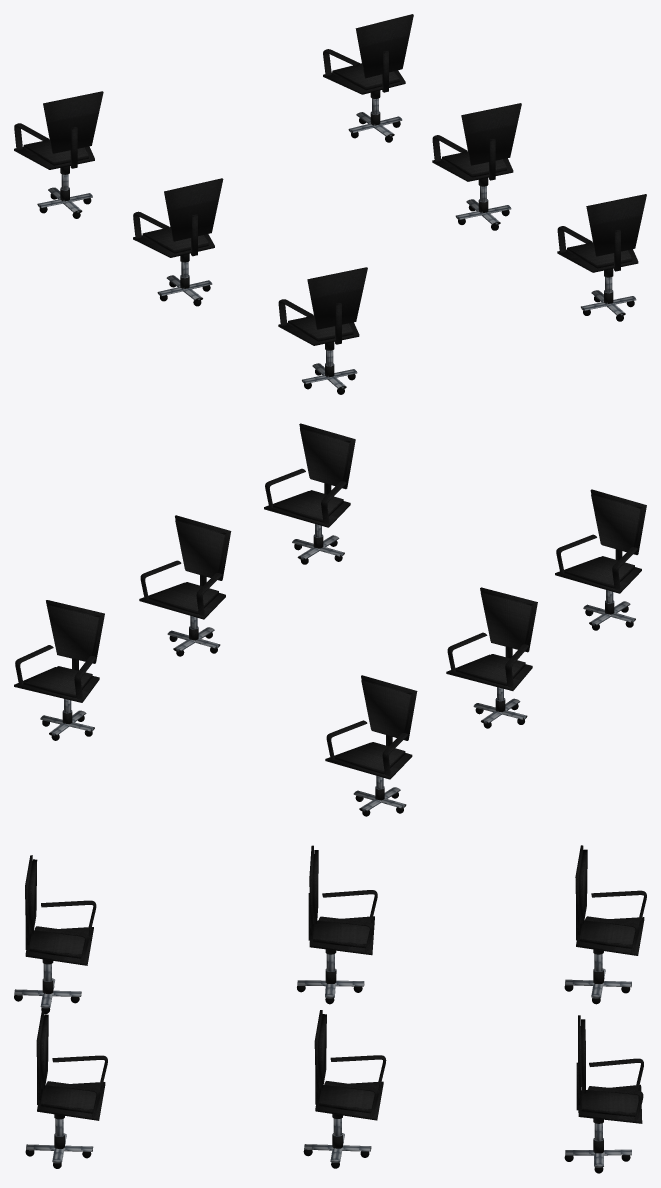
The model's file is chairs.fbx.
The picture shows the model from 3 angles, top to bottom: view 1: azimuth 30°, elevation 25°; view 2: azimuth 150°, elevation 25°; view 3: azimuth 270°, elevation 25°; orthographic projection. The views are drawn at different scales.
Visible parts, largest first — view 1: Chair.005, Chair, Chair.001, Chair.002, Chair.003, Chair.004; view 2: Chair.004, Chair.003, Chair, Chair.002, Chair.001, Chair.005; view 3: Chair.002, Chair, Chair.001, Chair.005, Chair.003, Chair.004.
Part boxes in pixels (left/top/right/bottom): Chair.005: left=14, top=91, right=103, bottom=218; Chair: left=557, top=194, right=646, bottom=321; Chair.001: left=278, top=267, right=367, bottom=394; Chair.002: left=432, top=103, right=521, bottom=230; Chair.003: left=133, top=178, right=223, bottom=306; Chair.004: left=323, top=14, right=413, bottom=142; Chair.004: left=14, top=600, right=104, bottom=740; Chair.003: left=446, top=587, right=537, bottom=728; Chair: left=264, top=423, right=355, bottom=564; Chair.002: left=139, top=515, right=231, bottom=656; Chair.001: left=555, top=489, right=646, bottom=630; Chair.005: left=325, top=675, right=417, bottom=816; Chair.002: left=303, top=1010, right=386, bottom=1168; Chair: left=25, top=1010, right=107, bottom=1168; Chair.001: left=14, top=855, right=96, bottom=1013; Chair.005: left=564, top=845, right=646, bottom=1004; Chair.003: left=297, top=845, right=377, bottom=1004; Chair.004: left=564, top=1015, right=643, bottom=1173.
Size of the model in its own units: 311 by 92.59 by 406.
